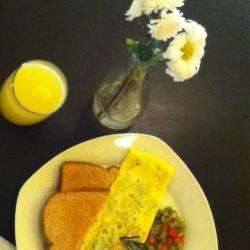bread: (39, 157, 119, 250)
omelette: (87, 144, 175, 250)
